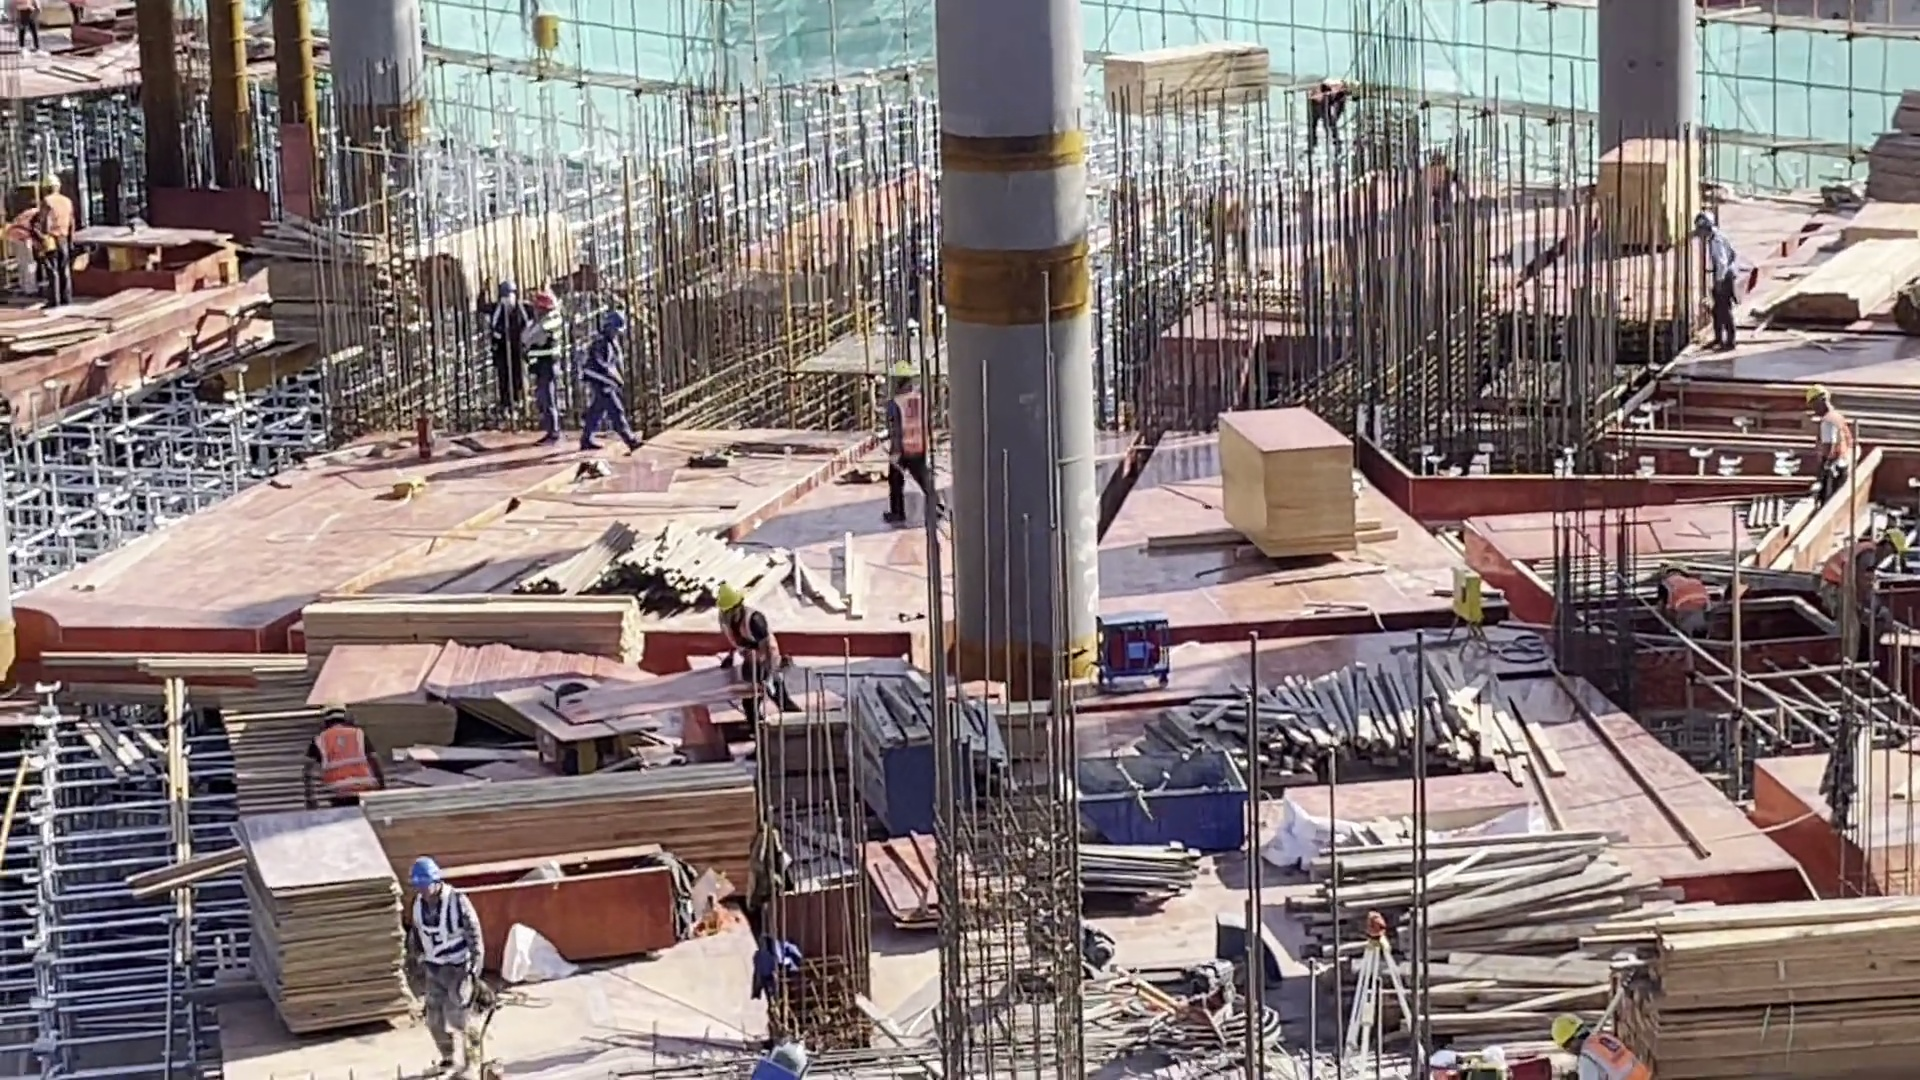board: (223, 806, 409, 1030), (1214, 403, 1355, 557), (332, 660, 470, 763), (1599, 139, 1703, 256), (866, 818, 956, 927)
cutter: (496, 677, 657, 778), (75, 222, 237, 298)
ebox: (1442, 568, 1482, 649), (532, 10, 565, 65)
helmet: (1549, 1009, 1584, 1046), (406, 855, 439, 887), (714, 582, 747, 611), (526, 291, 562, 316), (1883, 529, 1907, 556), (1805, 383, 1829, 407), (600, 311, 628, 332), (888, 358, 916, 377), (315, 705, 347, 722), (1695, 211, 1717, 233), (494, 278, 516, 298), (38, 178, 59, 191)
hopper: (1066, 750, 1244, 851)
person: (407, 852, 489, 1076), (702, 584, 789, 747), (876, 358, 933, 526), (578, 312, 631, 460), (312, 704, 377, 815), (1818, 529, 1906, 610), (1553, 1009, 1651, 1080), (479, 277, 526, 417), (1802, 379, 1856, 499), (1697, 216, 1743, 346), (527, 293, 568, 428), (37, 176, 76, 308), (1308, 74, 1361, 155), (1653, 560, 1712, 632), (5, 1, 42, 46)
vest: (415, 896, 476, 974), (313, 723, 369, 800), (1818, 539, 1878, 609), (722, 614, 780, 686), (1583, 1033, 1654, 1080), (578, 333, 628, 398), (521, 314, 567, 380), (887, 395, 924, 456), (1819, 411, 1851, 478), (1666, 572, 1709, 619), (486, 300, 520, 353), (42, 192, 74, 246), (1708, 237, 1738, 287)
wood: (1308, 830, 1637, 1040), (1614, 892, 1917, 1080), (1150, 662, 1571, 795), (372, 763, 775, 859), (293, 594, 645, 671), (525, 514, 788, 603), (265, 217, 407, 347), (1760, 236, 1920, 342), (402, 211, 581, 299), (1099, 44, 1267, 114)
